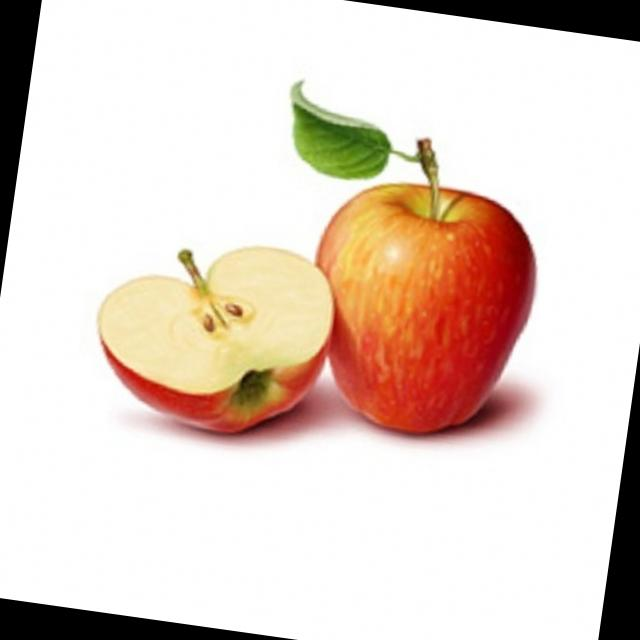apple: (282, 166, 550, 466)
